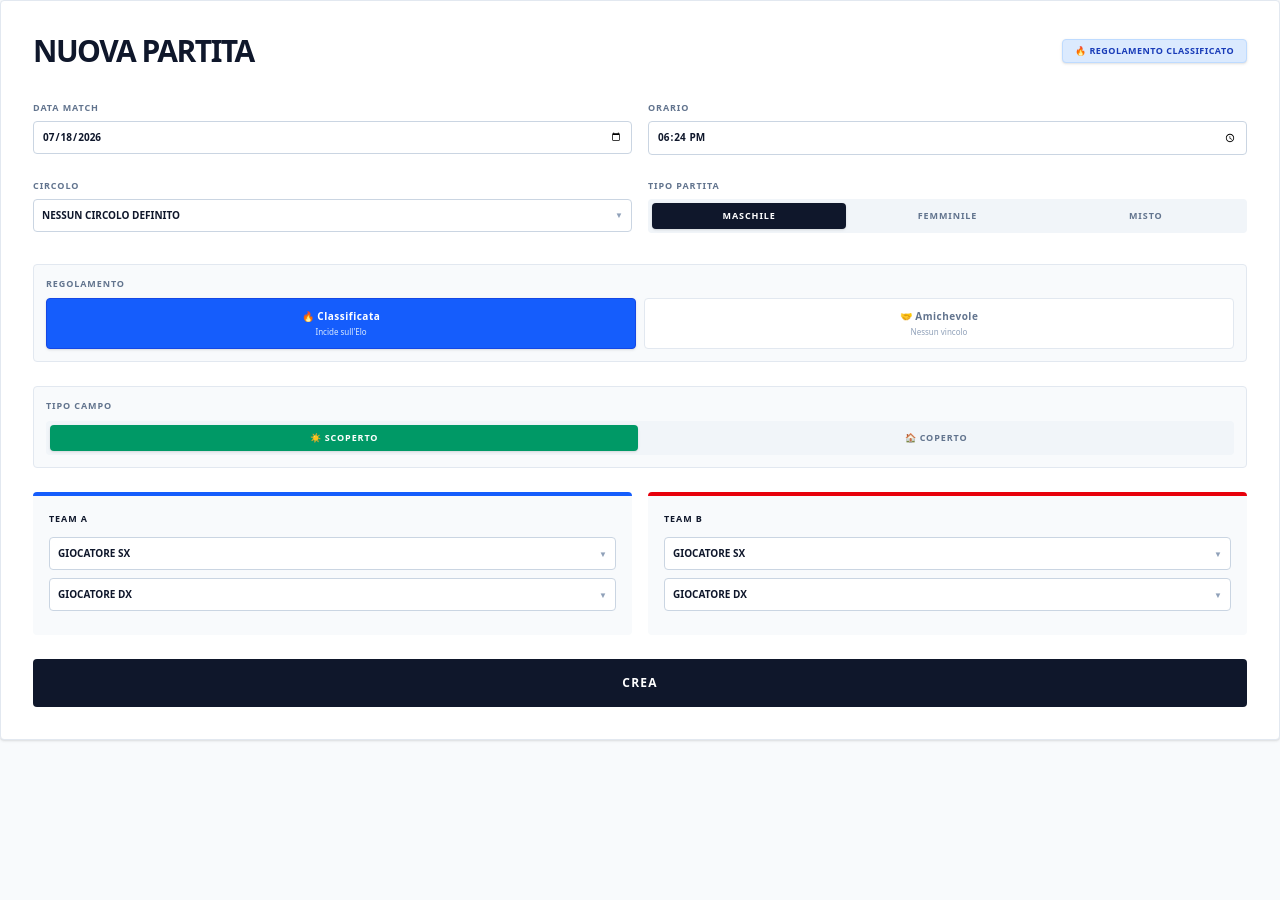
Test case: MatchForm Component (Unificato) › dovrebbe attivare la ricerca dentro la dropdown filtrando i risultati
# Apriamo la tendina del Giocatore SX del Team A
Click the text "GIOCATORE SX" below "TEAM A". click: (94, 554)
box: [58,546,130,561]
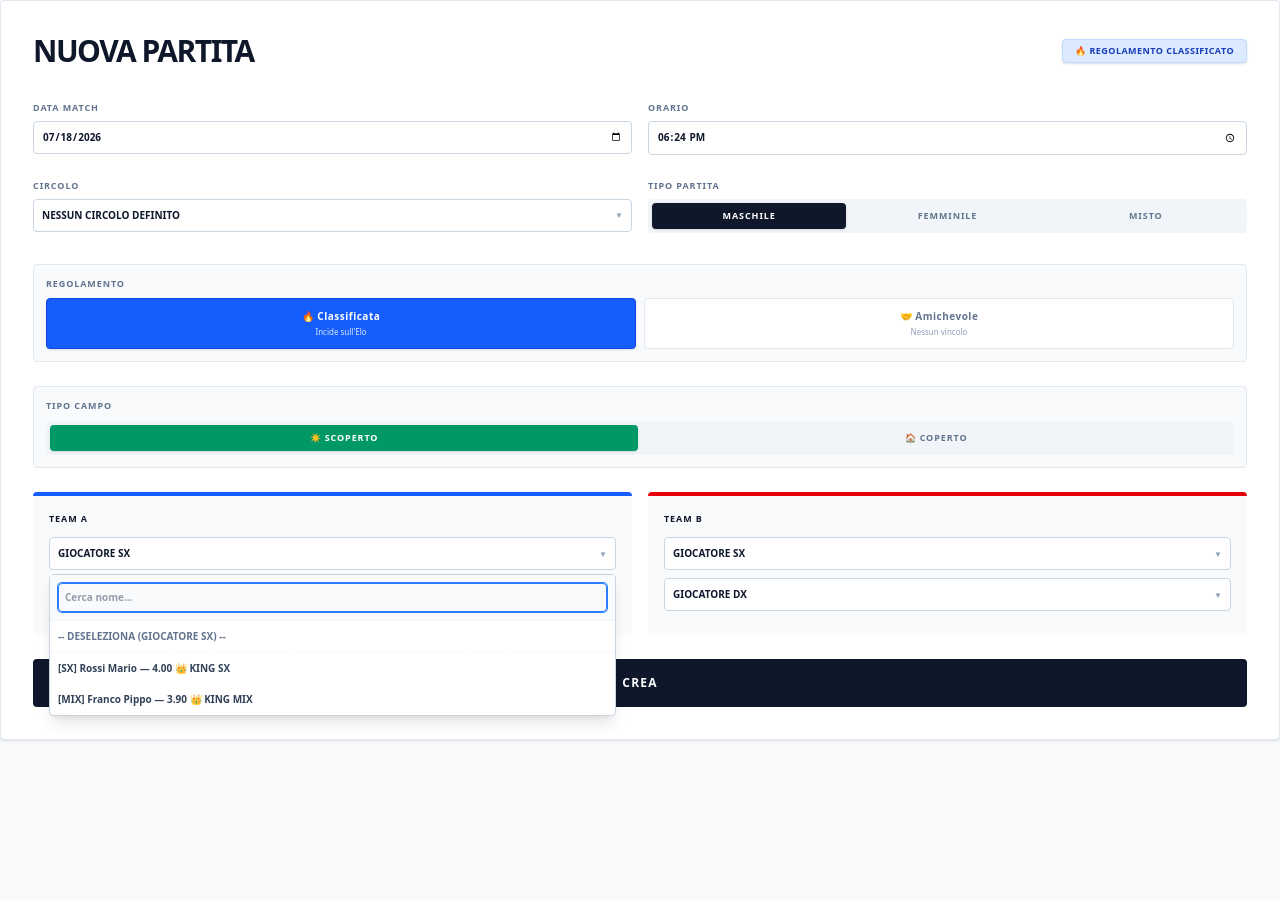
# Troviamo l'input di ricerca ed digitiamo "Franco"
Type "Franco" into the field with placeholder "Cerca nome...". click: (332, 598)
box: [58,583,607,612]
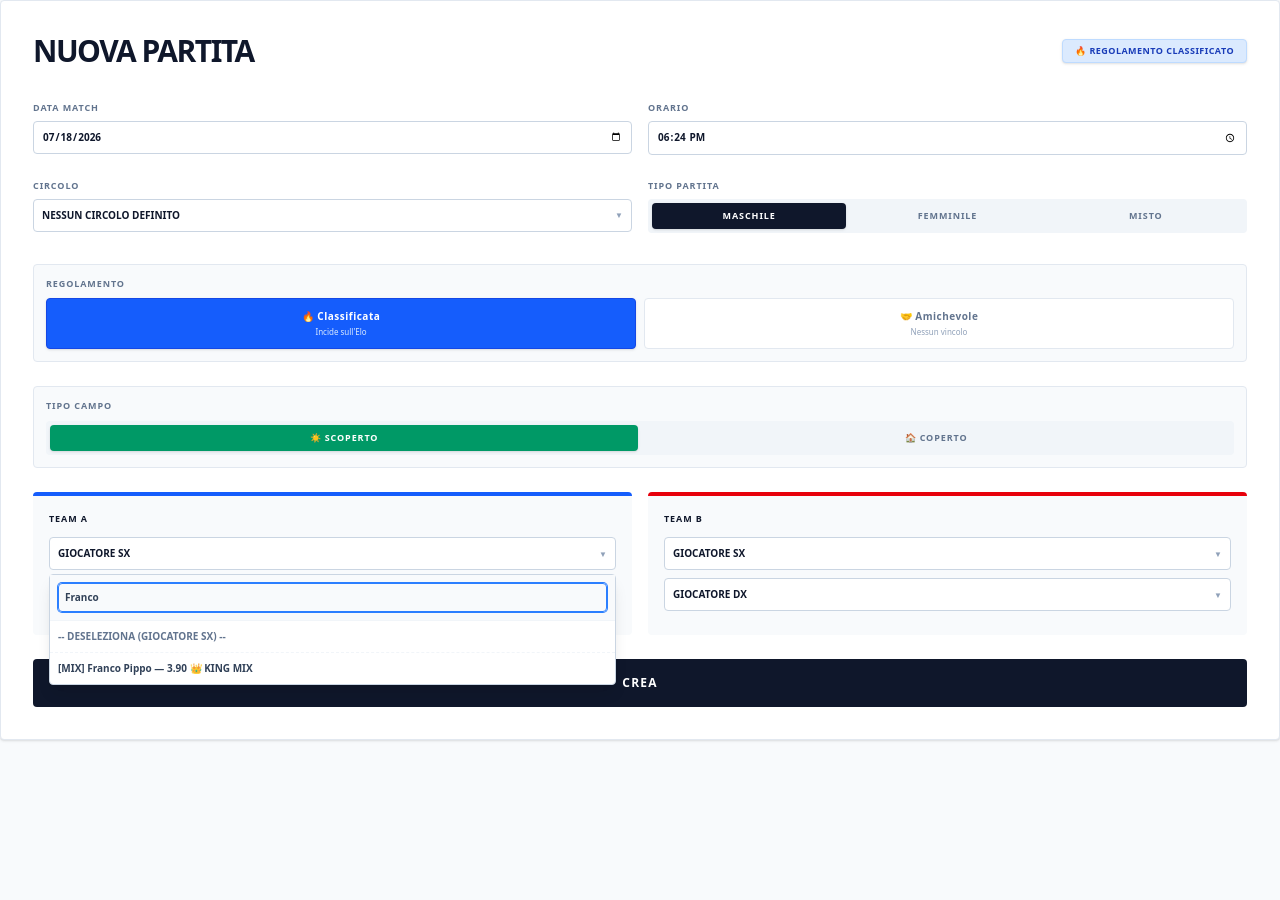
Now the text "[MIX] Franco Pippo — 3.90 👑 KING MIX" is shown, box [58,661,253,675]
Now the text "Rossi Mario" is gone
